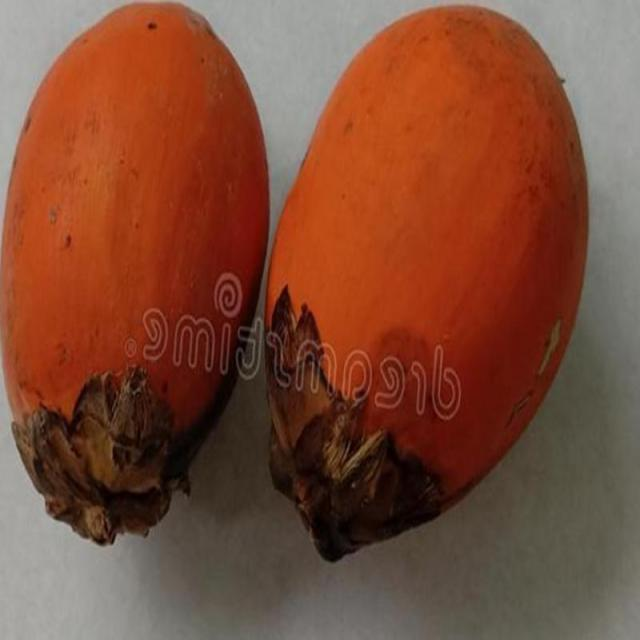good: (262, 6, 590, 564), (0, 2, 271, 548)
